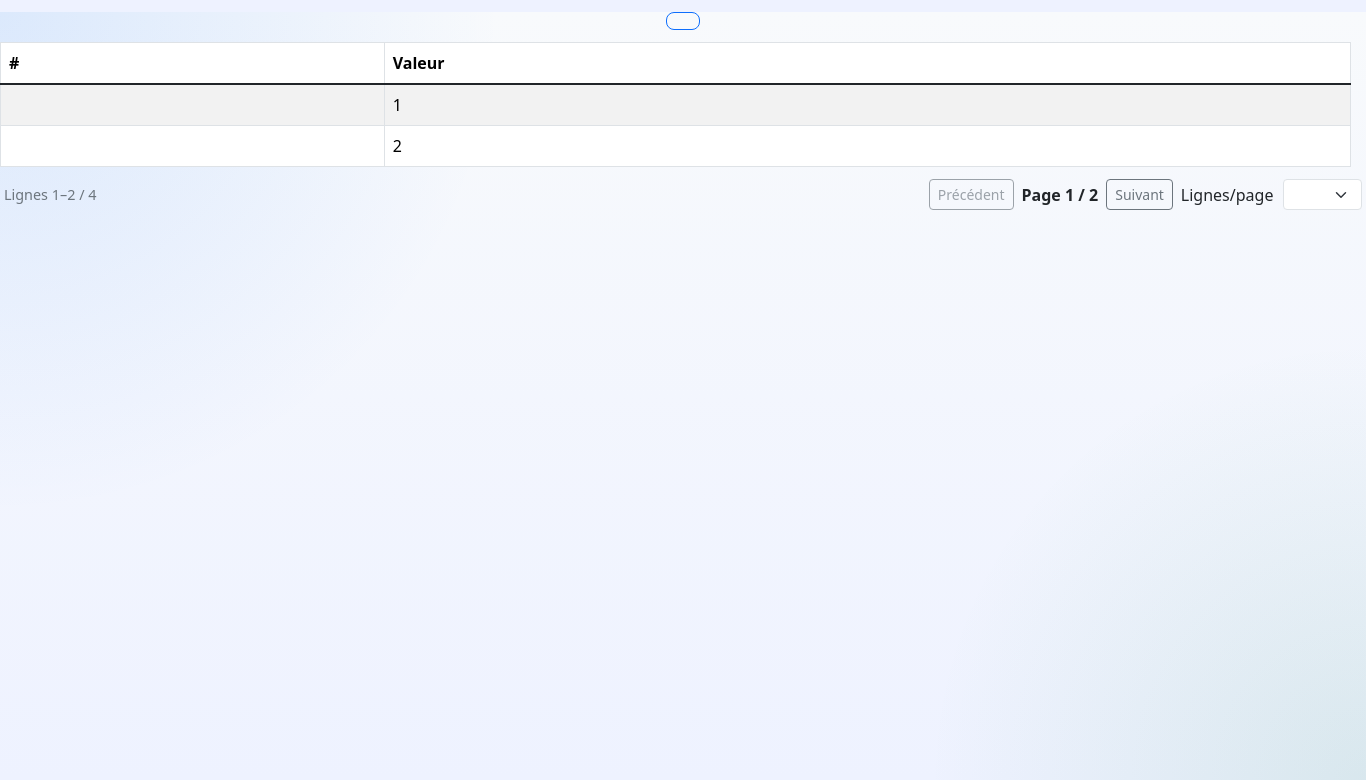
Test case: BaseDataTable › gère la pagination et la navigation entre les pages (Suivant / Précédent)
The width and height of the screenshot is (1366, 780).
Expected: the row "1" is shown, [0,84,1350,126]
Click the button "Suivant".
click(1140, 194)  # box [1106,179,1173,210]
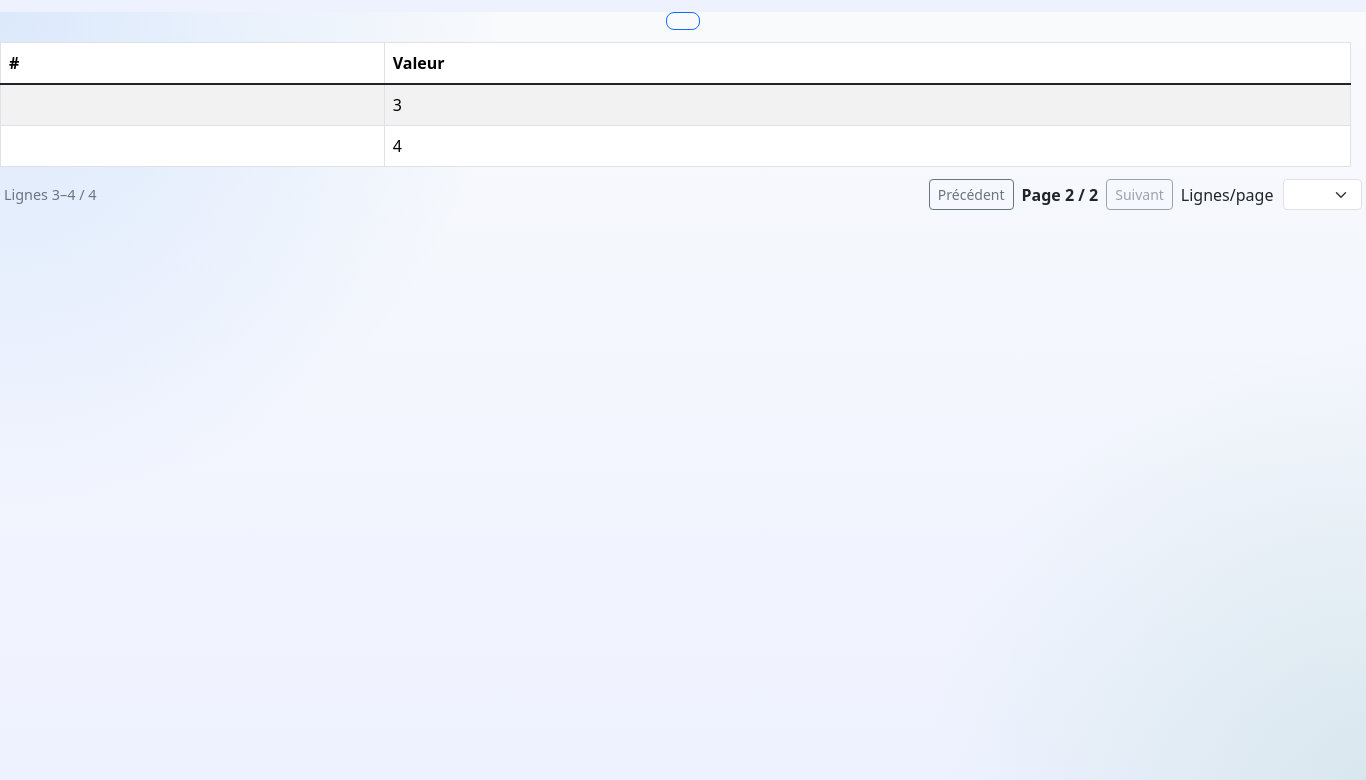
Expected: the row "3" is shown, [0,84,1350,126]
Click the button "Précédent".
click(971, 194)  # box [929,179,1014,210]
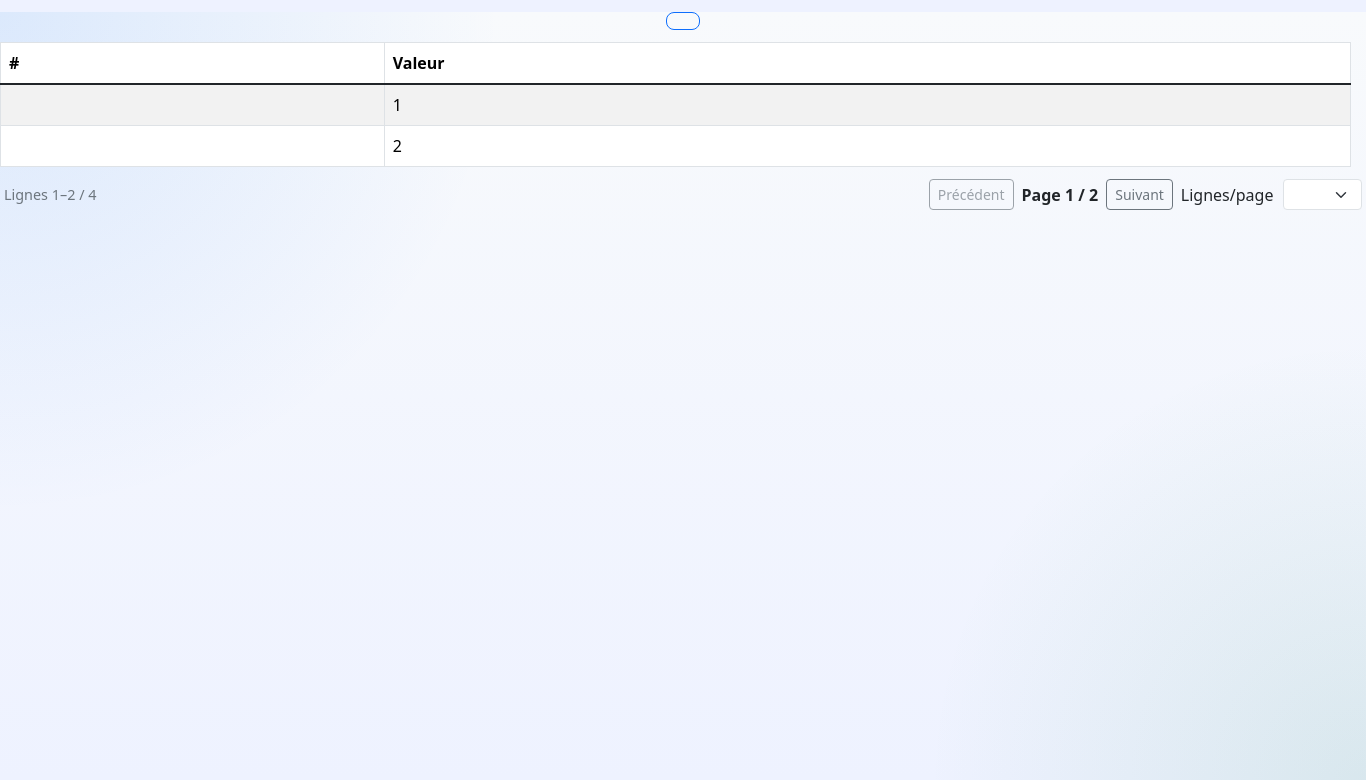
Expected: the row "1" is shown, [0,84,1350,126]
